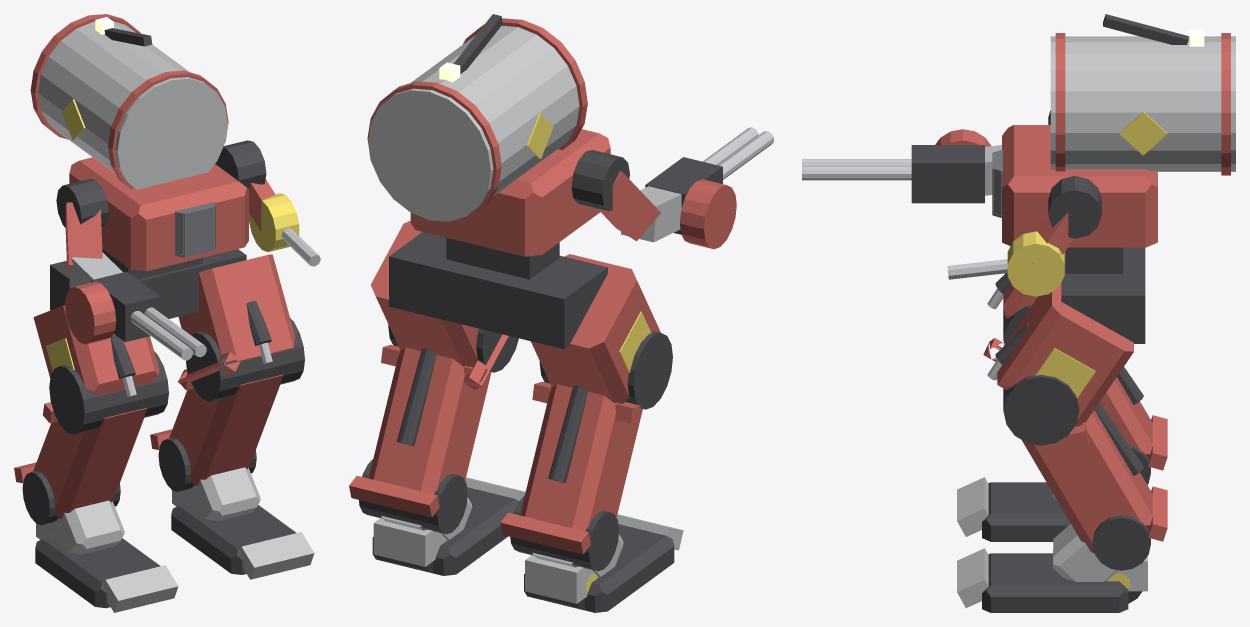
Rendered from bowser.glb.
The picture shows the model from 3 angles, left to right: view 1: azimuth 30°, elevation 25°; view 2: azimuth 150°, elevation 25°; view 3: azimuth 270°, elevation 25°; orthographic projection. The views are drawn at different scales.
Visible parts, largest first — view 1: tank, chassis, thigh1, shin-1, shin1, thigh-1, knee-1, foot1_sole, foot-1_sole, knee1, hips, meta1 (+25 smaller); view 2: tank, hips, shin-1, shin1, chassis, thigh-1, thigh1, foot-1_sole, foot1_sole, ac_drum, knee-1, hock1 (+20 smaller); view 3: tank, chassis, shin1, thigh1, foot1_sole, hips, foot-1_sole, ac_body, knee1, reel, shin-1, hock1 (+18 smaller).
Boxes of the visible parts, bbox=[...] form: tank: bbox=[36, 21, 227, 189]; chassis: bbox=[69, 157, 248, 271]; thigh1: bbox=[178, 254, 295, 390]; shin-1: bbox=[14, 408, 147, 518]; shin1: bbox=[150, 374, 283, 485]; thigh-1: bbox=[33, 305, 159, 423]; knee-1: bbox=[49, 351, 168, 434]; foot1_sole: bbox=[171, 504, 296, 574]; foot-1_sole: bbox=[35, 537, 160, 608]; knee1: bbox=[186, 318, 304, 401]; hips: bbox=[50, 249, 246, 318]; meta1: bbox=[184, 467, 260, 521]; tank: bbox=[368, 26, 581, 221]; hips: bbox=[389, 232, 607, 349]; shin-1: bbox=[500, 384, 642, 554]; shin1: bbox=[349, 347, 491, 517]; chassis: bbox=[410, 129, 610, 256]; thigh-1: bbox=[531, 254, 660, 423]; thigh1: bbox=[370, 220, 508, 389]; foot-1_sole: bbox=[524, 524, 674, 612]; foot1_sole: bbox=[372, 487, 518, 575]; ac_drum: bbox=[680, 179, 736, 249]; knee-1: bbox=[539, 331, 672, 409]; hock1: bbox=[359, 459, 467, 534]; tank: bbox=[1050, 36, 1235, 171]; chassis: bbox=[1002, 125, 1157, 247]; shin1: bbox=[1022, 410, 1167, 552]; thigh1: bbox=[983, 283, 1133, 448]; foot1_sole: bbox=[982, 553, 1128, 612]; hips: bbox=[1061, 247, 1145, 343]; foot-1_sole: bbox=[982, 482, 1070, 541]; ac_body: bbox=[911, 145, 984, 203]; knee1: bbox=[1003, 374, 1079, 445]; reel: bbox=[1007, 231, 1064, 296]; shin-1: bbox=[1100, 377, 1167, 470]; hock1: bbox=[1092, 515, 1150, 570].
Bounding box in the file's own units: 13.75 × 27.03 × 19.58.
